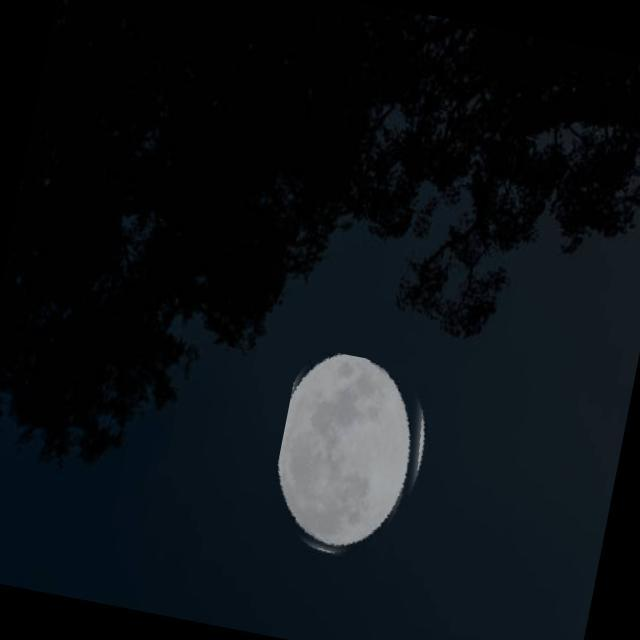moon: (262, 346, 448, 574)
